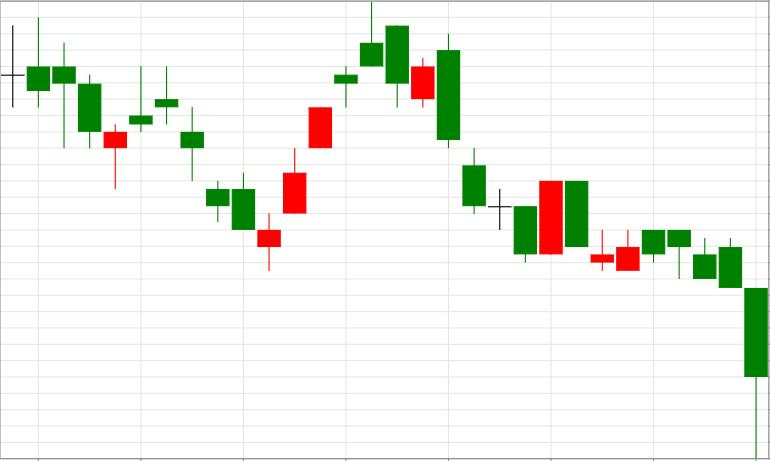morning_star_rise: (155, 65, 306, 270)
